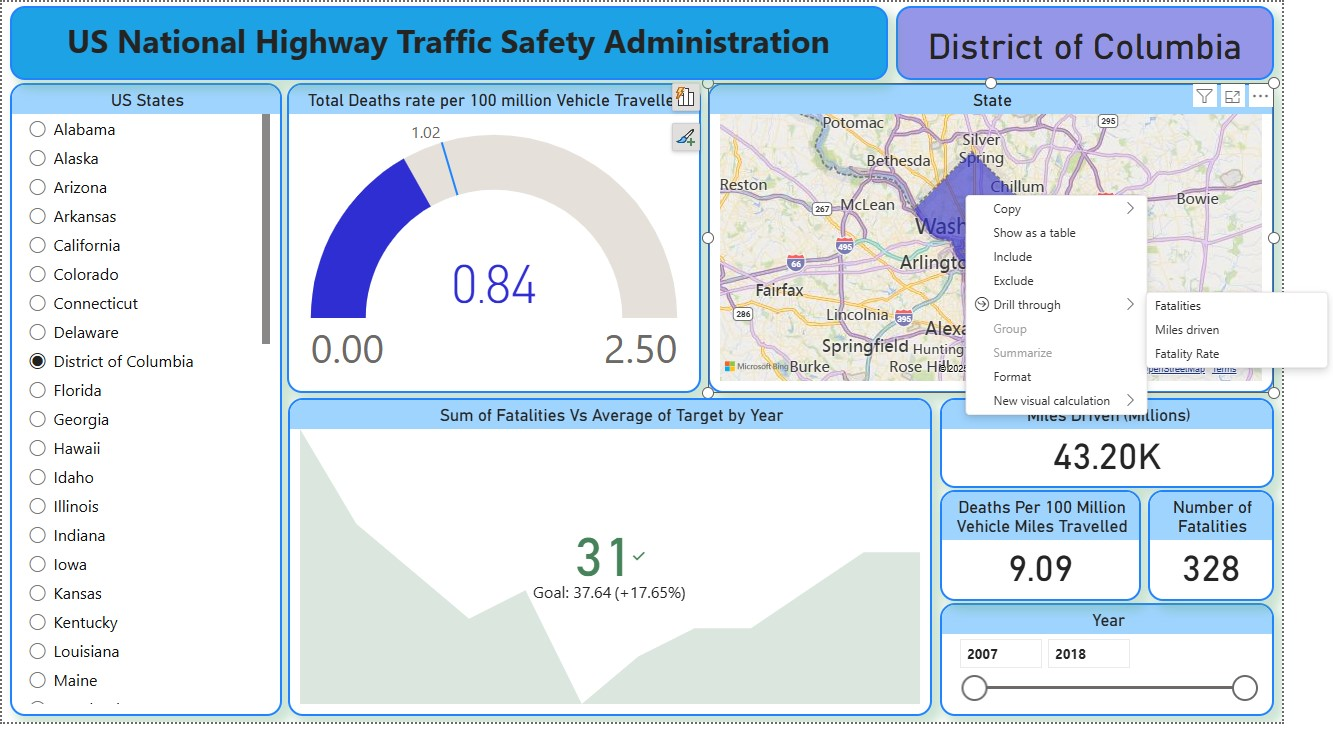

What the dashboard file says about the page in this screenshot:
{"tool":"powerbi","page":{"name":"Dashboard","canvas":[1280,720],"ordinal":0},"visuals":[{"type":"slicer","title":"US States","fields":{"Values":["PA - Driving Safety.State"]},"box":[8.1,80.6,272.2,633.1],"z":0},{"type":"card","title":"Selected US State","fields":{"Values":["Min(PA - Driving Safety.State)"]},"box":[894,4,378,73.6],"z":1000},{"type":"gauge","title":"Total Deaths rate per 100 million Vehicle Travelled","fields":{"Y":["Sum(PA - Driving Safety.2018 Deaths per 100 million vehicle miles traveled)"]},"box":[285.3,80.8,414,310],"z":2000},{"type":"filledMap","fields":{"Category":["PA - Driving Safety.State"]},"box":[706.3,80.8,566,310],"z":3000},{"type":"kpi","title":"Sum of Fatalities Vs Average of Target by Year","fields":{"Indicator":["Sum(PA - Driving Safety.Fatalities)"],"TrendLine":["PA - Driving Safety.Year"],"Goal":["Avg(PA - Driving Safety.Target)"]},"box":[285.7,395.8,643.9,317.9],"z":4000},{"type":"card","title":"Miles Driven (Millions)","fields":{"Values":["Sum(PA - Driving Safety.Miles (millions))"]},"box":[937.6,395.9,334.6,89.7],"z":5000},{"type":"slicer","title":"Year","fields":{"Values":["PA - Driving Safety.Year"]},"box":[937.6,600.9,334,112.8],"z":6000},{"type":"textbox","box":[8.1,4,877.9,73.6],"z":7000},{"type":"card","title":"Deaths Per 100 Million Vehicle Miles Travelled","fields":{"Values":["Sum(PA - Driving Safety.Deaths per 100 million vehicle miles traveled)"]},"box":[937.6,488.2,201.6,110.9],"z":8000},{"type":"card","title":"Number of Fatalities","fields":{"Values":["Sum(PA - Driving Safety.Fatalities)"]},"box":[1146.3,488.2,126,110.9],"z":9000}]}

Visuals, with their boxes on the page's 1280x720 design canvas (x1, y1, x2, y2). These are canvas units, not pixel positions in the 1333x730 screenshot, which may show the page scaled, cropped or inside an application window:
"US States" slicer: [8,81,280,714]
"Selected US State" card: [894,4,1272,78]
"Total Deaths rate per 100 million Vehicle Travelled" gauge: [285,81,699,391]
filledMap - PA - Driving Safety.State: [706,81,1272,391]
"Sum of Fatalities Vs Average of Target by Year" kpi: [286,396,930,714]
"Miles Driven (Millions)" card: [938,396,1272,486]
"Year" slicer: [938,601,1272,714]
textbox: [8,4,886,78]
"Deaths Per 100 Million Vehicle Miles Travelled" card: [938,488,1139,599]
"Number of Fatalities" card: [1146,488,1272,599]
